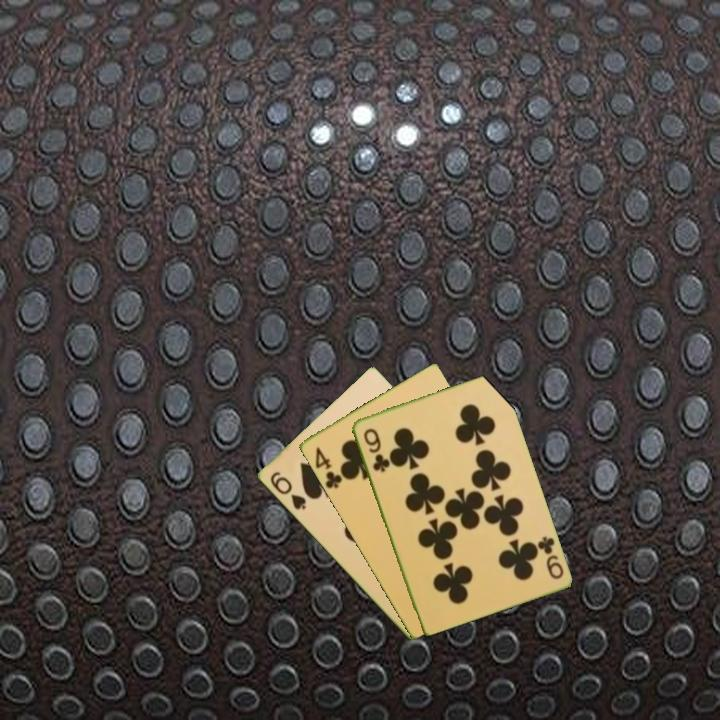4c: (311, 443, 347, 492)
6s: (266, 468, 309, 513)
9c: (533, 532, 566, 582), (359, 425, 391, 475)
